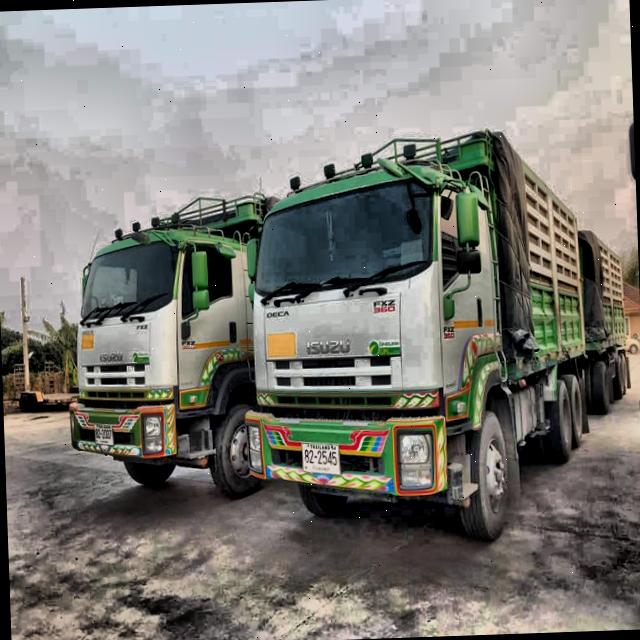trailer: (235, 121, 638, 554)
